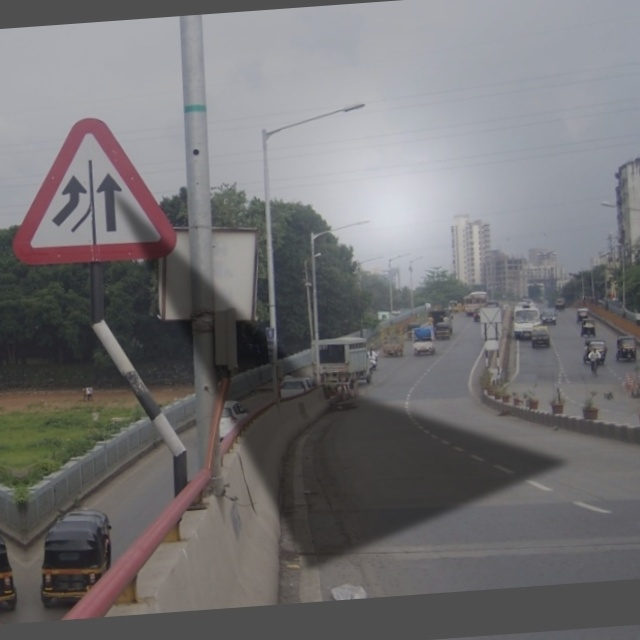Merge_Traffic_Ahead: (22, 102, 157, 276)
